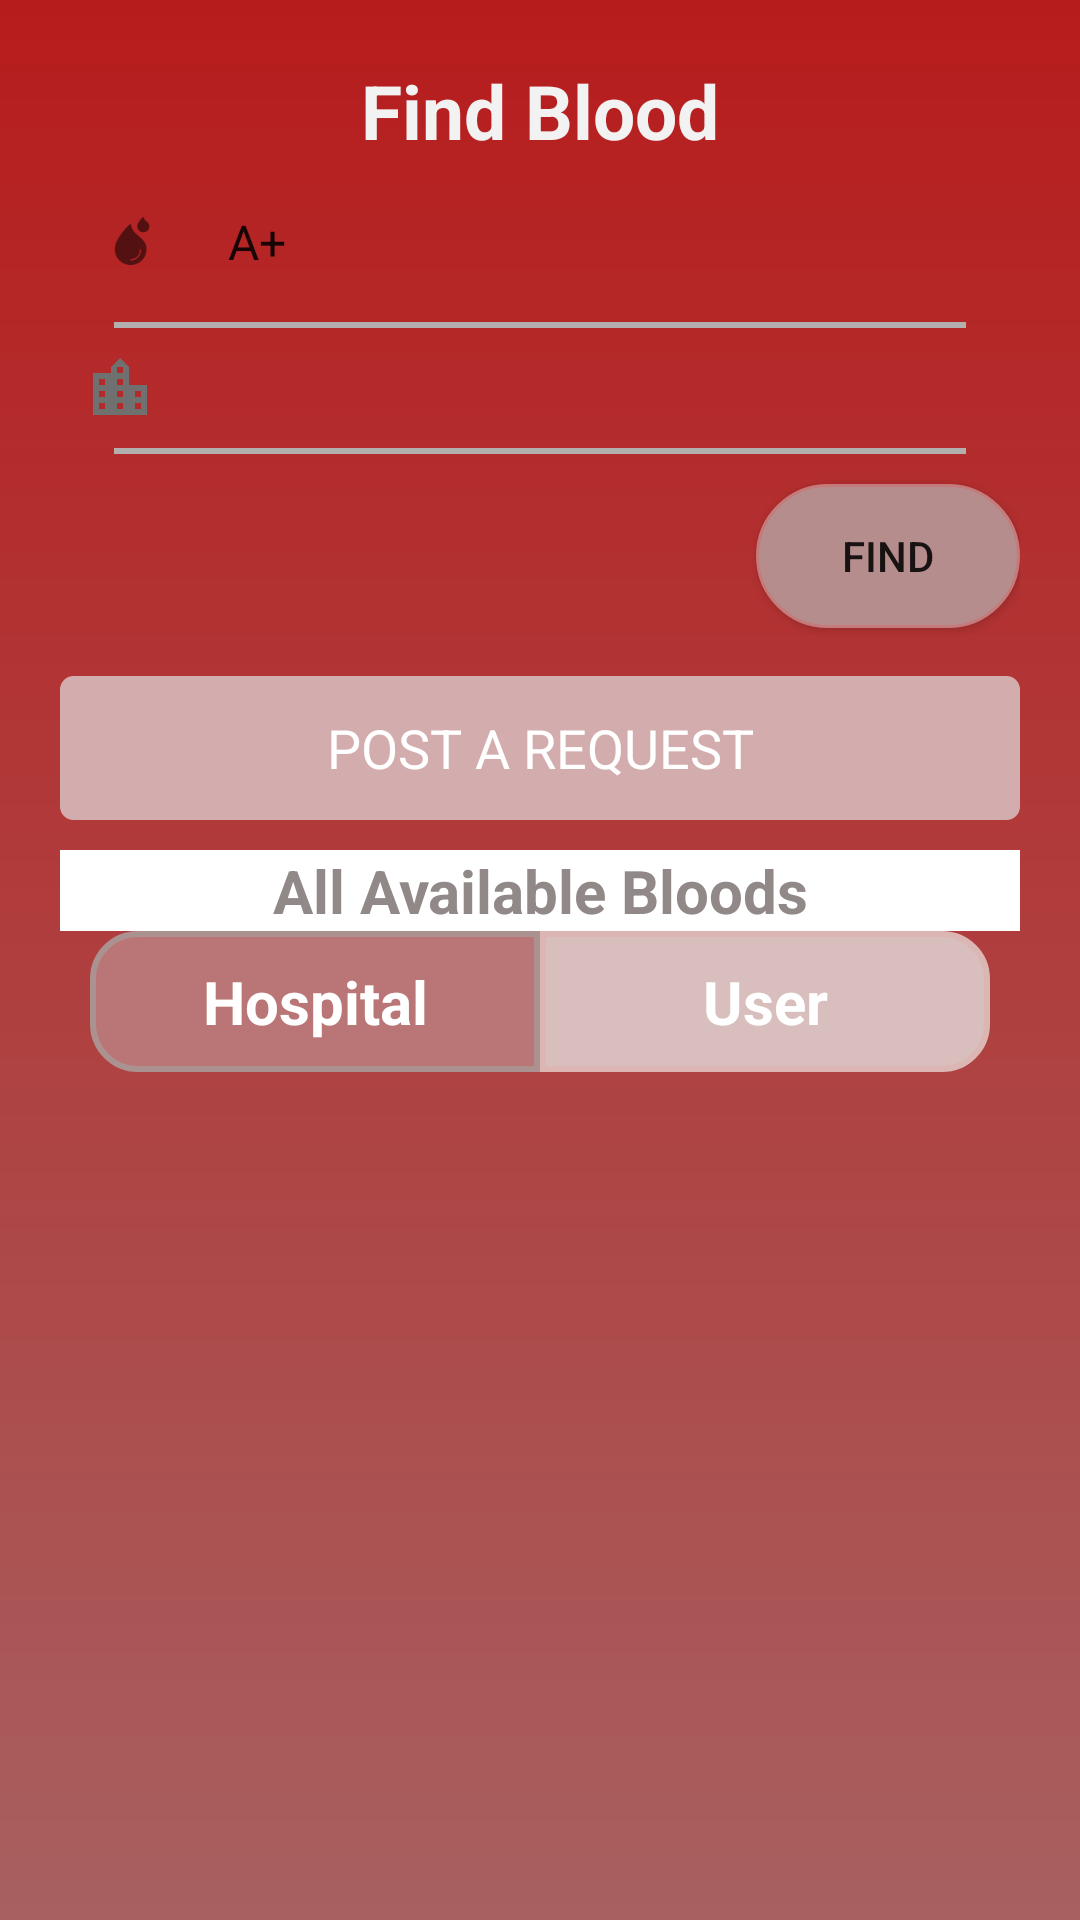

Icon bounding boxes for this 1080px x 1920px phone screenshot, format [x1=x1, y1=y1, x2=x2, y2=y2]:
location city: [x1=93, y1=358, x2=147, y2=415]
